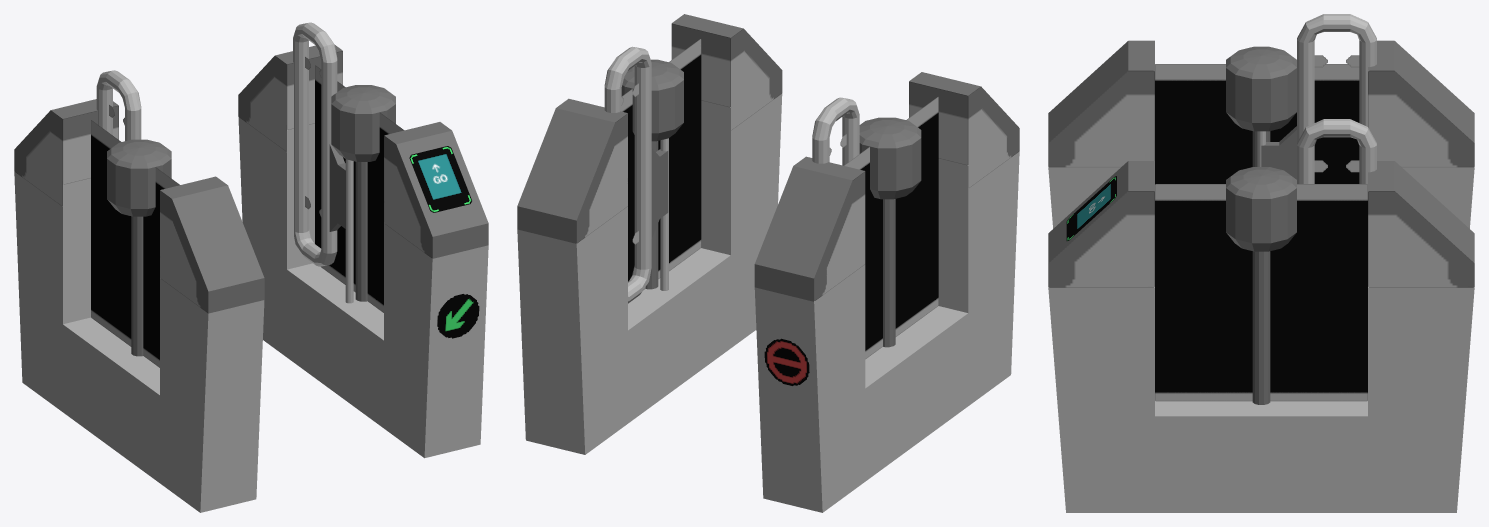
Rendered from nyc_subway_fare_gate_3_entrance_open.obj.
3 renders of one model, left to right at view 1: azimuth 30°, elevation 25°; view 2: azimuth 150°, elevation 25°; view 3: azimuth 270°, elevation 25°, orthographic. The views are drawn at different scales.
Visible parts, largest first — view 1: left, right, doorRight, cube, doorLeft; view 2: left, right, doorRight, doorLeft, cube; view 3: right, left, doorLeft, doorRight, cube.
Boxes of the visible parts, x1=… form: left: x1=14, y1=99, x2=264, y2=512; right: x1=238, y1=45, x2=488, y2=458; doorRight: x1=293, y1=22, x2=345, y2=266; cube: x1=409, y1=146, x2=479, y2=338; doorLeft: x1=96, y1=70, x2=141, y2=140; left: x1=754, y1=72, x2=1019, y2=512; right: x1=517, y1=14, x2=782, y2=454; doorRight: x1=604, y1=46, x2=668, y2=303; doorLeft: x1=812, y1=97, x2=859, y2=165; cube: x1=764, y1=338, x2=809, y2=385; right: x1=1048, y1=161, x2=1474, y2=512; left: x1=1048, y1=40, x2=1474, y2=228; doorLeft: x1=1261, y1=14, x2=1376, y2=179; doorRight: x1=1297, y1=119, x2=1376, y2=191; cube: x1=1066, y1=176, x2=1116, y2=240.
Bounding box in the file's own units: 1.25 × 1.44 × 1.5.
1 material, 1 textured.
